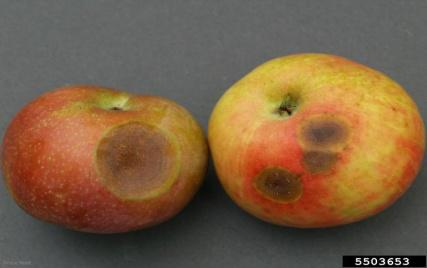defect: (256, 116, 350, 206), (86, 119, 185, 203)
